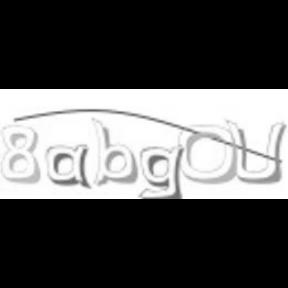8: (2, 123, 40, 185)
O: (179, 122, 237, 188)
U: (224, 115, 286, 185)
a: (44, 144, 90, 188)
b: (92, 115, 138, 190)
g: (140, 146, 182, 199)
